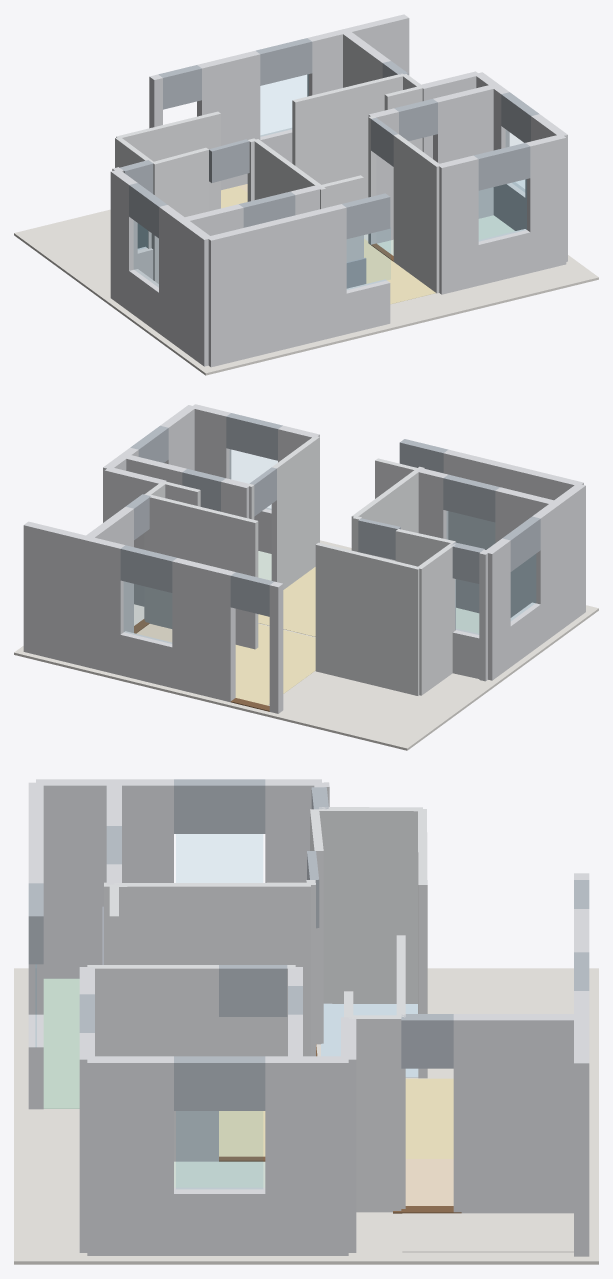
3 renders of one model, top to bottom at view 1: azimuth 30°, elevation 25°; view 2: azimuth 150°, elevation 25°; view 3: azimuth 270°, elevation 25°, orthographic. The views are drawn at different scales.
Visible parts, largest first — view 1: wall_post_000_00, floor_slab, wall_019_w20, wall_post_001_00, wall_post_015_00, wall_post_014_00, wall_post_014_final, wall_post_004_01, wall_post_016_final, wall_post_011_00, wall_013_w14, wall_post_001_final (+35 smaller); view 2: wall_013_w14, floor_slab, wall_005_w6, wall_019_w20, wall_post_004_01, wall_post_001_00, wall_post_015_00, wall_post_004_final, wall_012_w13, wall_post_000_00, room_finish_006_dining, wall_post_001_final (+34 smaller); view 3: floor_slab, wall_post_021_final, wall_009_w10, wall_012_w13, wall_post_001_00, wall_post_002_00, wall_post_015_00, wall_003_w4, wall_020_w21, room_finish_008_utility, sill_wall_002_win6, wall_post_002_final (+25 smaller).
Boxes of the visible parts, <box> form: wall_post_000_00: <box>206,204,346,367</box>; floor_slab: <box>14,209,598,375</box>; wall_019_w20: <box>292,73,404,198</box>; wall_post_001_00: <box>159,205,212,366</box>; wall_post_015_00: <box>393,134,439,293</box>; wall_post_014_00: <box>437,155,478,294</box>; wall_post_014_final: <box>525,135,566,272</box>; wall_post_004_01: <box>197,50,260,190</box>; wall_post_016_final: <box>433,85,497,218</box>; wall_post_011_00: <box>151,147,209,283</box>; wall_013_w14: <box>116,111,220,211</box>; wall_post_001_final: <box>110,170,137,311</box>; wall_013_w14: <box>315,542,419,695</box>; floor_slab: <box>14,540,598,750</box>; wall_005_w6: <box>23,521,89,666</box>; wall_019_w20: <box>145,494,258,649</box>; wall_post_004_01: <box>172,558,235,702</box>; wall_post_001_00: <box>532,484,585,644</box>; wall_post_015_00: <box>271,436,319,589</box>; wall_post_004_final: <box>85,536,125,675</box>; wall_012_w13: <box>416,543,455,695</box>; wall_post_000_00: <box>443,449,583,549</box>; room_finish_006_dining: <box>235,624,315,705</box>; wall_post_001_final: <box>484,538,510,680</box>; floor_slab: <box>14,968,598,1264</box>; wall_post_021_final: <box>453,1014,581,1213</box>; wall_009_w10: <box>114,882,310,1056</box>; wall_012_w13: <box>319,807,422,1003</box>; wall_post_001_00: <box>36,779,173,978</box>; wall_post_002_00: <box>87,1056,173,1255</box>; wall_post_015_00: <box>87,965,218,1161</box>; wall_003_w4: <box>295,1056,348,1255</box>; wall_020_w21: <box>348,1015,401,1212</box>; room_finish_008_utility: <box>402,1213,573,1252</box>; sill_wall_002_win6: <box>174,1187,265,1255</box>; wall_post_002_final: <box>265,1056,295,1255</box>.
Size of the model in its own units: 9.1 by 2.85 by 7.68.
